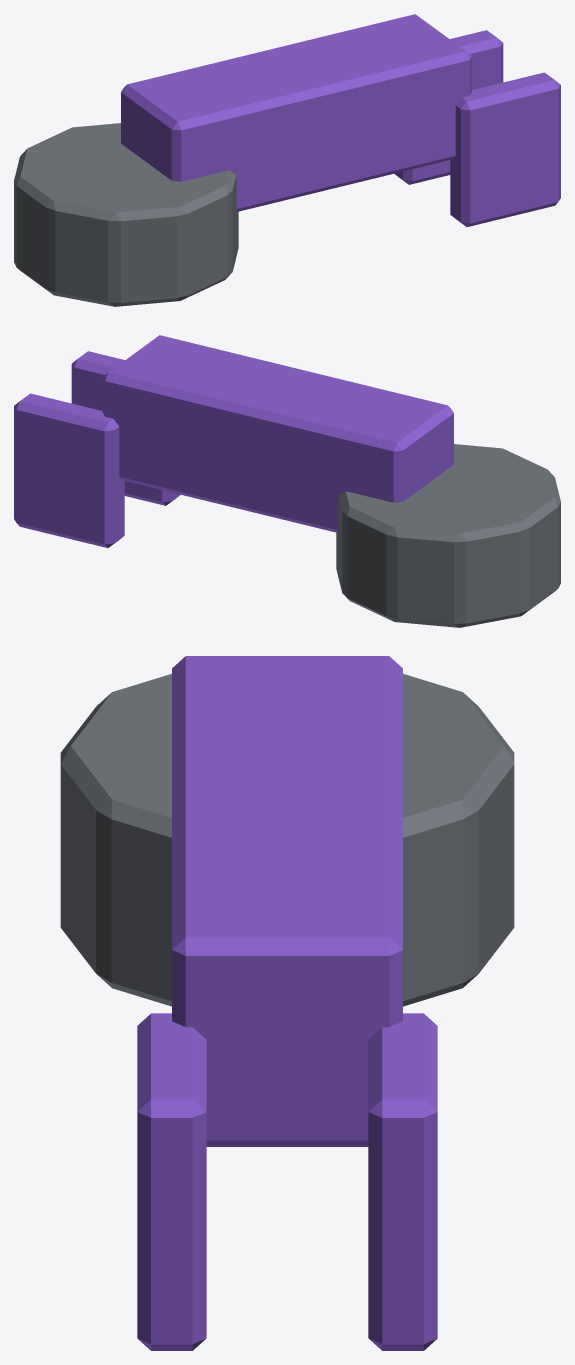
The model's file is robot_arm.glb.
3 views of the same model, one above another, from view 1: azimuth 30°, elevation 25°; view 2: azimuth 150°, elevation 25°; view 3: azimuth 270°, elevation 25° (orthographic). The views are drawn at different scales.
Parts seen in each view (by area): view 1: robot_arm; view 2: robot_arm; view 3: robot_arm.
Part boxes in pixels (left/top/right/bottom): robot_arm: left=14, top=14, right=560, bottom=306; robot_arm: left=14, top=335, right=560, bottom=627; robot_arm: left=60, top=656, right=514, bottom=1350.
Bounding box in the file's own units: 0.4951 × 0.16 × 0.1963.
